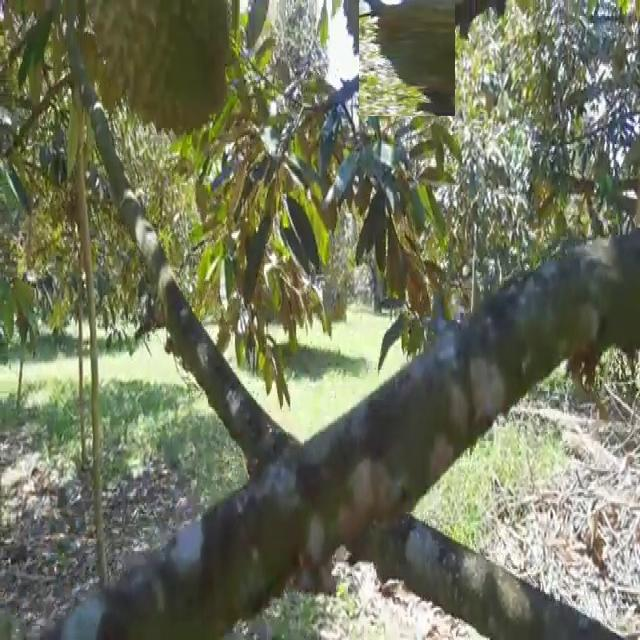durian: (82, 0, 235, 140), (348, 0, 464, 106)
